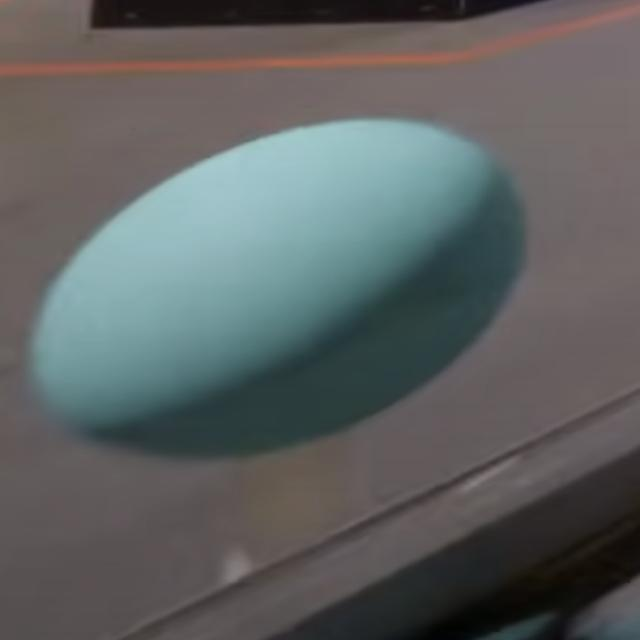Algae: (30, 120, 524, 459)
Coral: (222, 418, 369, 584)
